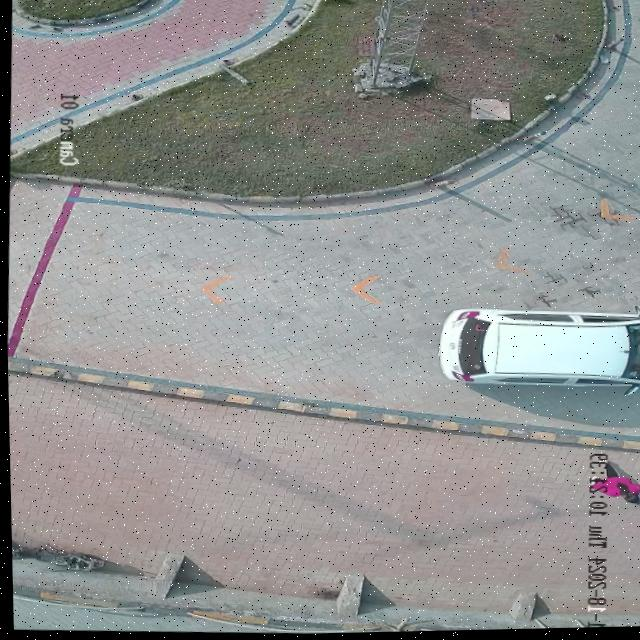car: (435, 310, 640, 390)
